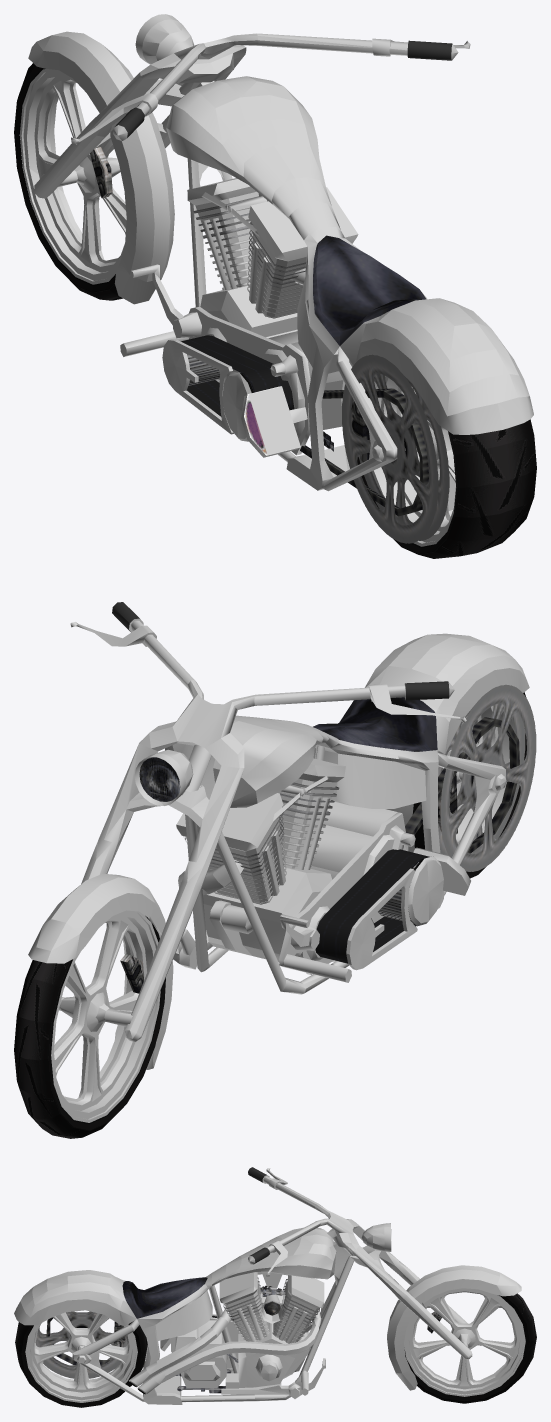
File: MC3_VP_SKULLY_01.glb
The picture shows the model from 3 angles, top to bottom: view 1: azimuth 30°, elevation 25°; view 2: azimuth 150°, elevation 25°; view 3: azimuth 270°, elevation 25°; orthographic projection. The views are drawn at different scales.
Visible parts, largest first — view 1: Frame_H.mesh, engine.mesh, fender.mesh, whl_3_rim_0, Sprocket.mesh, whl_5_tire_0, lod_fork1_fork.mesh, lod_fork_fork.mesh, whl_3_tire_0, whl_5_rim_0, plate_h.mesh, headlight.mesh (+2 smaller); view 2: engine.mesh, Frame_H.mesh, lod_fork_fork.mesh, whl_3_rim_0, Sprocket.mesh, whl_3_tire_0, lod_fork1_fork.mesh, fender.mesh, headlight.mesh, chain_h.mesh, whl_5_rim_0, spindleFront.mesh (+1 smaller); view 3: Frame_H.mesh, engine.mesh, whl_3_rim_0, whl_5_rim_0, fender.mesh, Exh_H.mesh, lod_fork_fork.mesh, lod_fork1_fork.mesh, whl_3_tire_0, whl_5_tire_0, Sprocket.mesh, headlight.mesh.
Part boxes in pixels (x1,y1,x2,y2): Frame_H.mesh: [166, 76, 533, 491]; engine.mesh: [120, 178, 358, 457]; fender.mesh: [28, 31, 174, 304]; whl_3_rim_0: [19, 69, 126, 284]; Sprocket.mesh: [342, 354, 449, 543]; whl_5_tire_0: [351, 403, 536, 558]; lod_fork1_fork.mesh: [71, 33, 470, 144]; lod_fork_fork.mesh: [34, 45, 246, 198]; whl_3_tire_0: [14, 63, 122, 300]; whl_5_rim_0: [371, 376, 456, 546]; plate_h.mesh: [249, 386, 300, 454]; headlight.mesh: [135, 14, 194, 85]; engine.mesh: [173, 758, 470, 982]; Frame_H.mesh: [165, 633, 529, 994]; lod_fork_fork.mesh: [81, 721, 244, 1041]; whl_3_rim_0: [51, 910, 160, 1122]; Sprocket.mesh: [438, 684, 536, 871]; whl_3_tire_0: [14, 916, 165, 1138]; lod_fork1_fork.mesh: [70, 602, 466, 747]; fender.mesh: [28, 873, 173, 1069]; headlight.mesh: [134, 749, 193, 805]; chain_h.mesh: [405, 717, 519, 853]; whl_5_rim_0: [437, 706, 514, 843]; spindleFront.mesh: [59, 996, 132, 1026]; Frame_H.mesh: [14, 1227, 355, 1404]; engine.mesh: [161, 1272, 325, 1398]; whl_3_rim_0: [404, 1288, 525, 1396]; whl_5_rim_0: [25, 1312, 137, 1402]; fender.mesh: [387, 1265, 521, 1390]; Exh_H.mesh: [128, 1308, 321, 1394]; lod_fork_fork.mesh: [327, 1219, 472, 1359]; lod_fork1_fork.mesh: [248, 1167, 353, 1276]; whl_3_tire_0: [404, 1293, 536, 1403]; whl_5_tire_0: [15, 1322, 147, 1407]; Sprocket.mesh: [35, 1311, 127, 1378]; headlight.mesh: [361, 1223, 391, 1253].
Size of the model in its own units: 1.26 by 1.05 by 2.61.
Materials: 18 (8 with a texture image).
